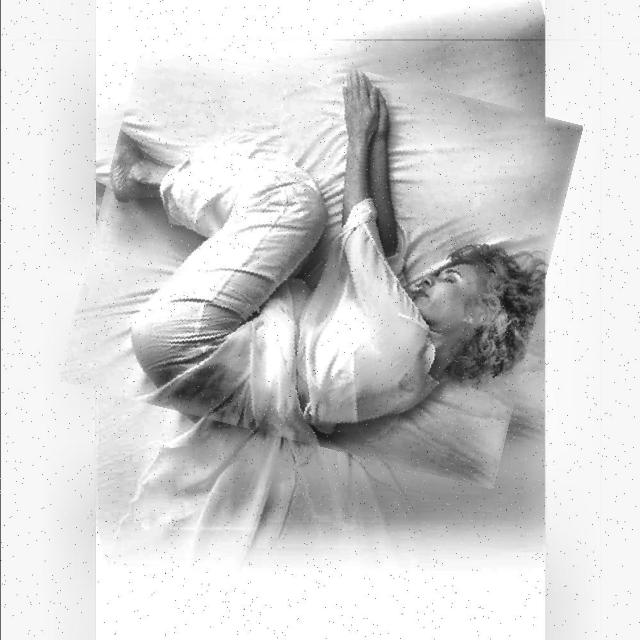Not_Supine: (111, 69, 546, 432)
